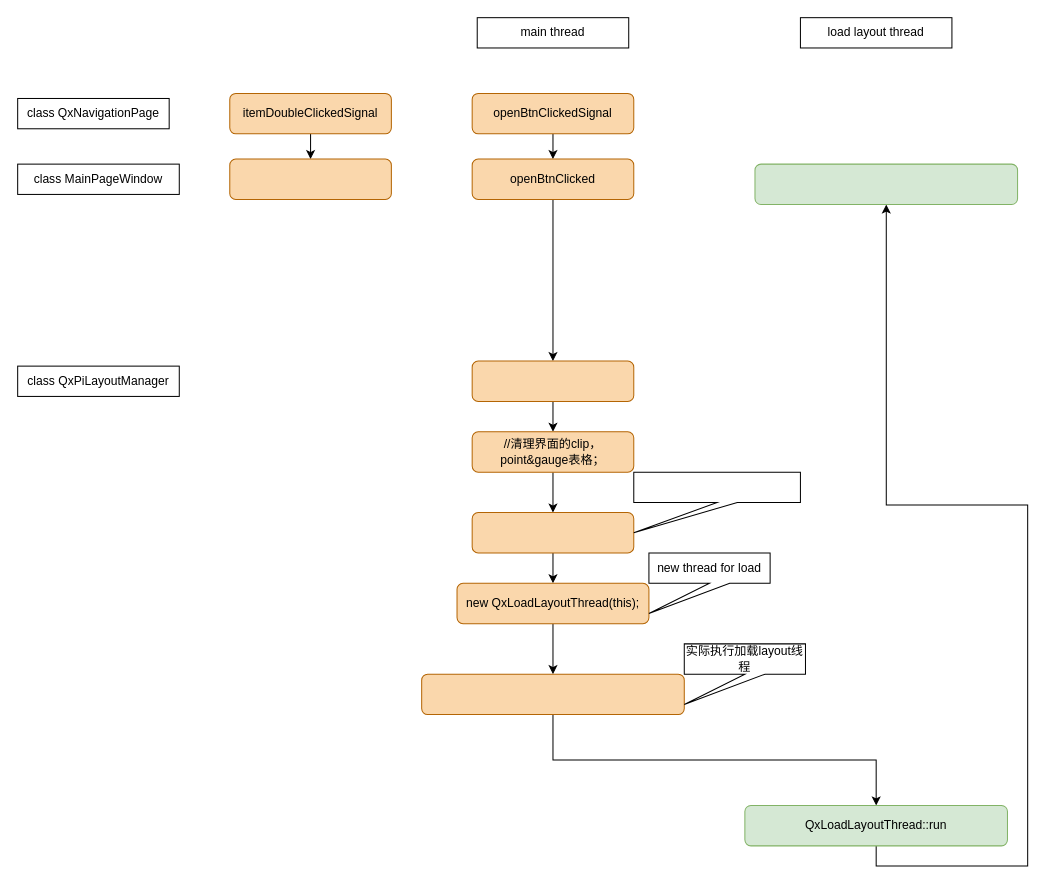
This 1053x892 diagram has some shape labels left out. The shapes that lost their labels are listed below. From the top down, each one's centre as x and y in pixels, then its label:
At pixel 310 178: "navigationClicked".
At pixel 886 184: "mainWindow->loadLayout".
At pixel 552 380: "loadLayoutGdsSlot".
At pixel 716 502: "重新加载LayoutView界面".
At pixel 552 532: "new LayoutView(gds_path);".
At pixel 552 694: "m_load_layout_thread->startJob(true);".
